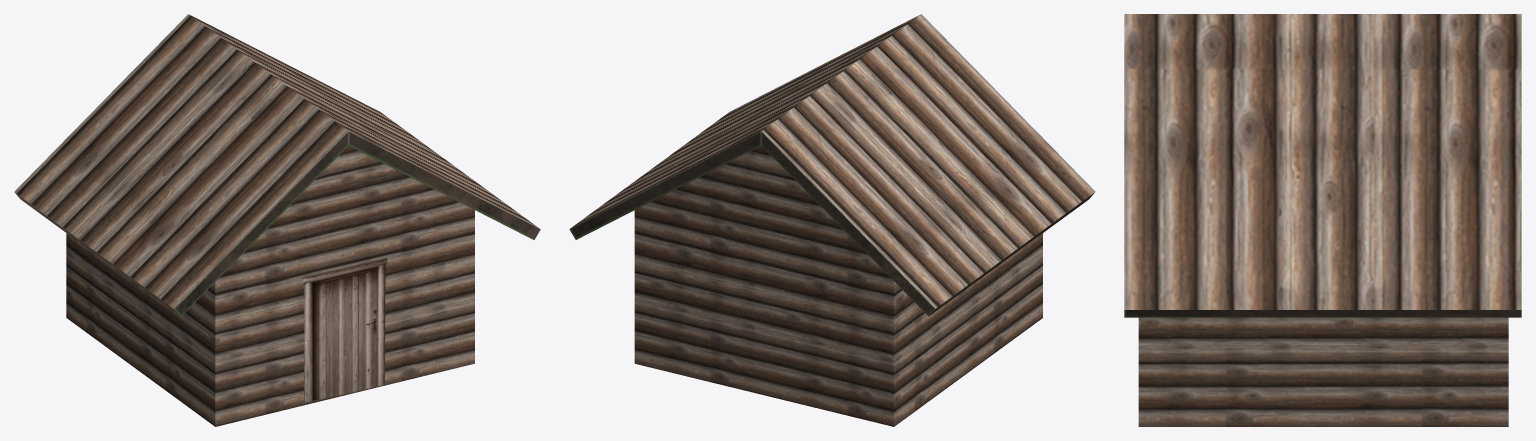
The model's file is hut 1.fbx.
3 renders of one model, left to right at view 1: azimuth 30°, elevation 25°; view 2: azimuth 150°, elevation 25°; view 3: azimuth 270°, elevation 25°, orthographic. The views are drawn at different scales.
Visible parts, largest first — view 1: Line003; view 2: Line003; view 3: Line003.
Part boxes in pixels (box(x1,y1,x2,y2)): Line003: box(14, 14, 540, 426); Line003: box(569, 14, 1095, 426); Line003: box(1124, 14, 1521, 426).
Bounding box in the file's own units: 172 × 120 × 130.
Materials: 1 (1 with a texture image).
